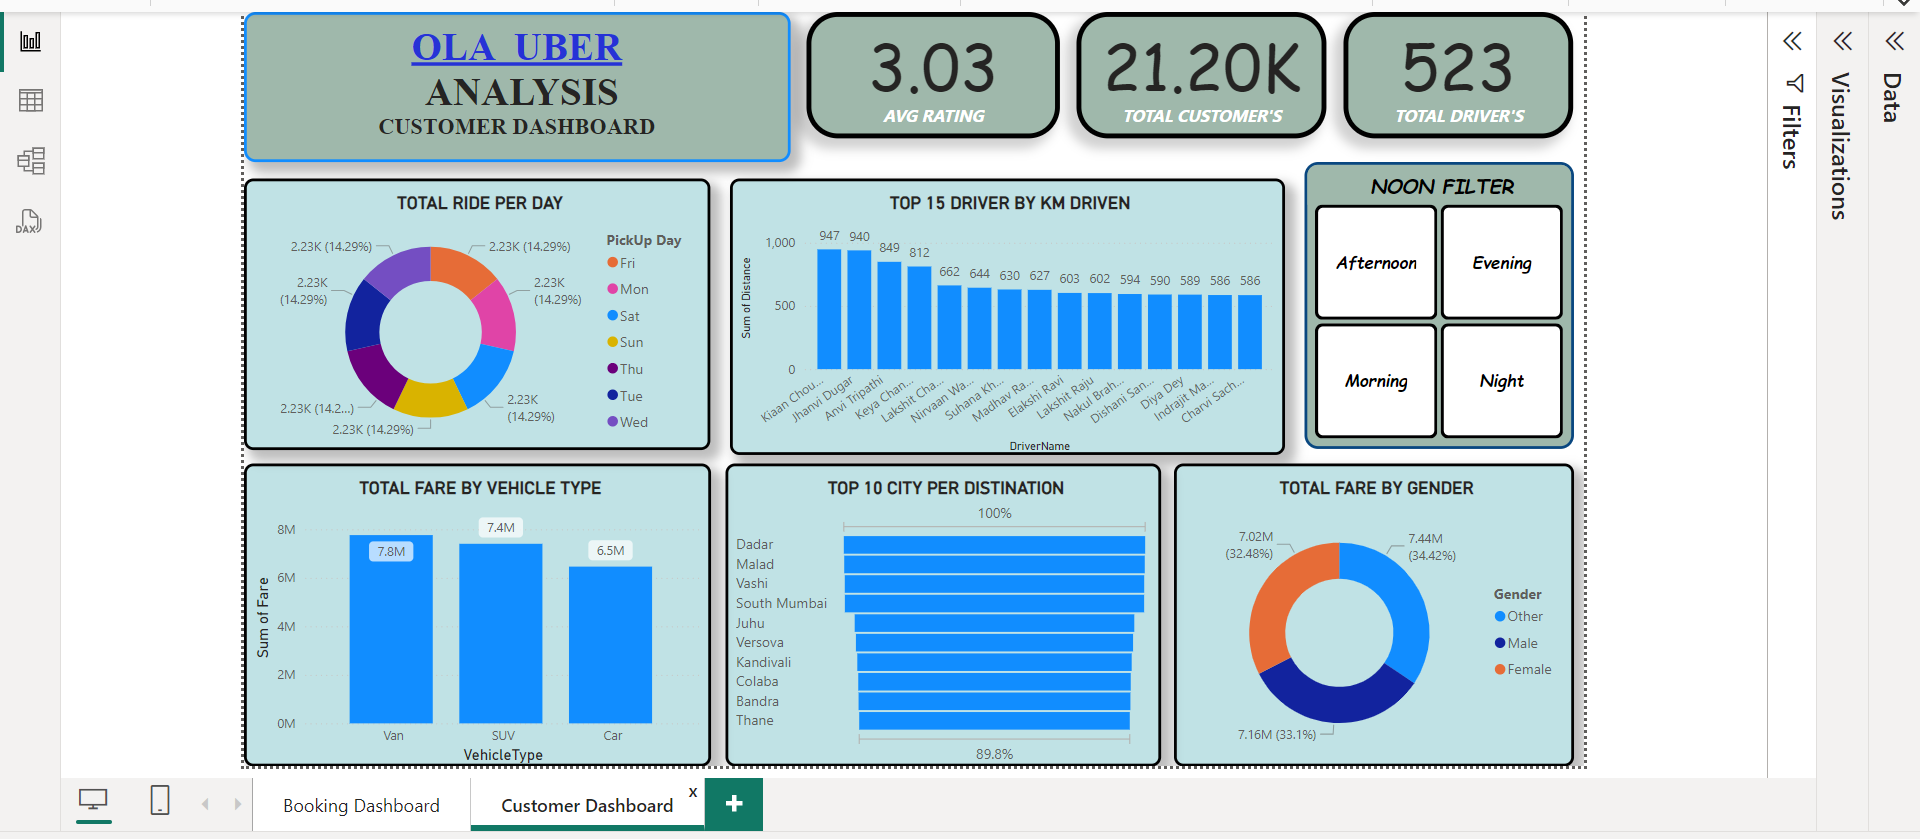

The page's visual inventory and layout, read from the dashboard file:
{"tool":"powerbi","page":{"name":"Customer Dashboard","canvas":[1280,720],"ordinal":1},"visuals":[{"type":"card","fields":{"Values":["Drivers.DriverRating"]},"box":[537.6,0,241.8,120.9],"z":0},{"type":"card","fields":{"Values":["rides.CustomerID"]},"box":[795.3,0,238.6,120.9],"z":1000},{"type":"card","fields":{"Values":["Drivers.DriverID"]},"box":[1049.8,0,219.5,120.9],"z":2000},{"type":"clusteredColumnChart","title":"TOP 15 DRIVER BY KM DRIVEN","fields":{"Category":["Drivers.DriverName"],"Y":["rides.Distance"]},"box":[464.5,159.1,529.7,264],"z":3000},{"type":"donutChart","title":"TOTAL FARE BY GENDER","fields":{"Y":["rides.Fare"],"Category":["customers.Gender"]},"box":[888.2,430.9,381.7,289.1],"z":4000},{"type":"funnel","title":"TOP 10 CITY  PER DISTINATION","fields":{"Y":["rides.Fare"],"Category":["customers.FrequentDropoffLocation"]},"box":[459.2,430.9,415.8,289.1],"z":5000},{"type":"lineStackedColumnComboChart","title":"TOTAL FARE BY VEHICLE TYPE","fields":{"Category":["Drivers.VehicleType"],"Y":["rides.Fare"]},"box":[0,430.9,446,289.1],"z":6000},{"type":"donutChart","title":"TOTAL RIDE PER DAY","fields":{"Category":["rides.PickUp Day"],"Y":["customers.TotalRides"]},"box":[0,159.1,445.4,259.3],"z":7000},{"type":"advancedSlicerVisual","title":"NOON FILTER","fields":{"Values":["rides.TimeSlot"]},"box":[1012.9,143.6,257,274],"z":8000},{"type":"textbox","box":[0,0,521.7,143.2],"z":9000}]}

Visuals, with their boxes on the page's 1280x720 design canvas (x1, y1, x2, y2). These are canvas units, not pixel positions in the 1920x839 screenshot, which may show the page scaled, cropped or inside an application window:
card - Drivers.DriverRating: 538,0,779,121
card - rides.CustomerID: 795,0,1034,121
card - Drivers.DriverID: 1050,0,1269,121
"TOP 15 DRIVER BY KM DRIVEN" clusteredColumnChart: 464,159,994,423
"TOTAL FARE BY GENDER" donutChart: 888,431,1270,720
"TOP 10 CITY  PER DISTINATION" funnel: 459,431,875,720
"TOTAL FARE BY VEHICLE TYPE" lineStackedColumnComboChart: 0,431,446,720
"TOTAL RIDE PER DAY" donutChart: 0,159,445,418
"NOON FILTER" advancedSlicerVisual: 1013,144,1270,418
textbox: 0,0,522,143
